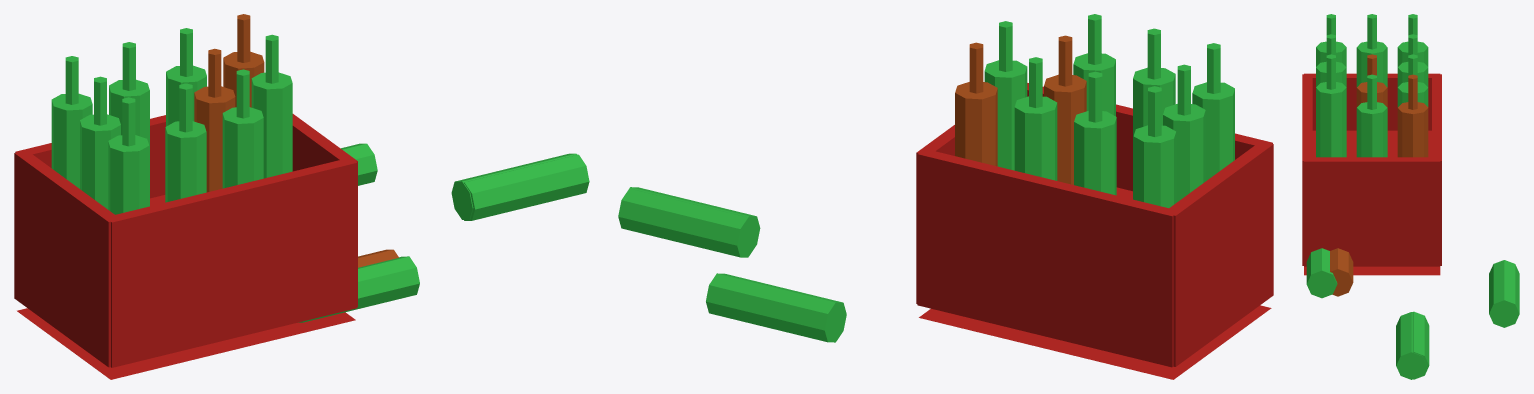
File: beer_crate.glb
3 views of the same model, side by side, from view 1: azimuth 30°, elevation 25°; view 2: azimuth 150°, elevation 25°; view 3: azimuth 270°, elevation 25° (orthographic). The views are drawn at different scales.
Visible parts, largest first — view 1: beer_crate; view 2: beer_crate; view 3: beer_crate.
Part boxes in pixels (x1=…): beer_crate: x1=14, y1=14, x2=589, y2=379; beer_crate: x1=618, y1=14, x2=1273, y2=379; beer_crate: x1=1302, y1=14, x2=1519, y2=379.
Bounding box in the file's own units: 1.33 × 0.6001 × 0.6378.
